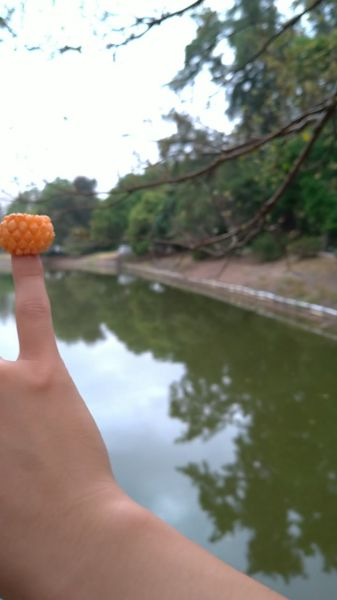eggs: (1, 213, 55, 256)
